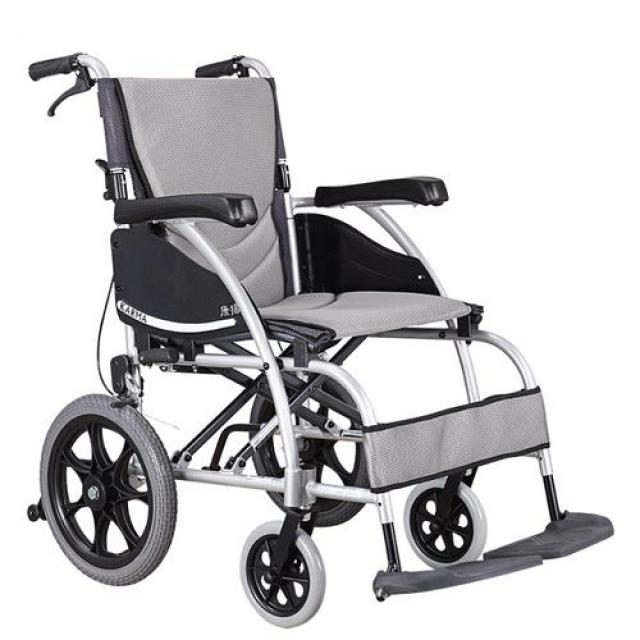wheelchairs: (4, 44, 620, 630)
